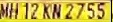character: (7, 2, 18, 19), (75, 1, 85, 19), (29, 2, 38, 20), (64, 2, 73, 20), (86, 1, 95, 19), (96, 2, 105, 19), (22, 2, 29, 20)
